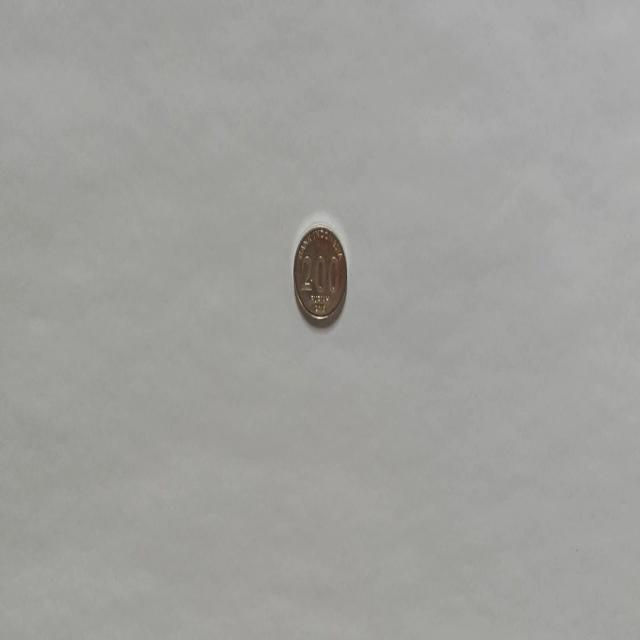dua ratus rupiah: (292, 221, 348, 327)
